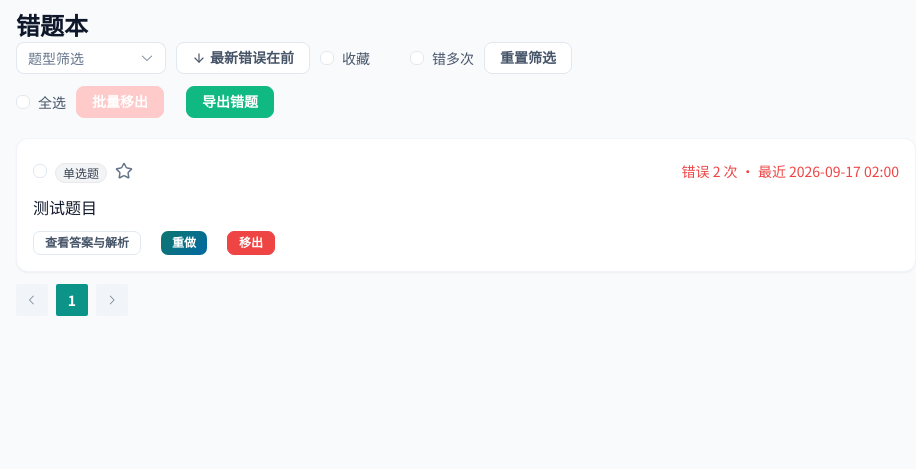
Test case: WrongQuestions 错题重做（会话单题变体 #617） › 点击重做：进入单题会话，外围收藏工厂按 question_id 查态（与练习同源），未提交不触达 redo 接口
Step 1. Click the button "重做" → (184,243), box left=161, top=231, right=207, bottom=255
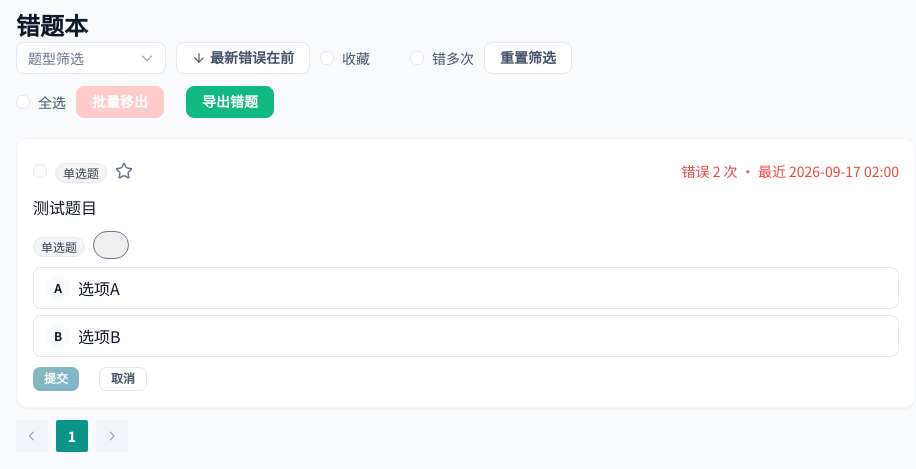
Expected: the element showing "A 选项A B 选项B" is shown, left=33, top=267, right=899, bottom=357
